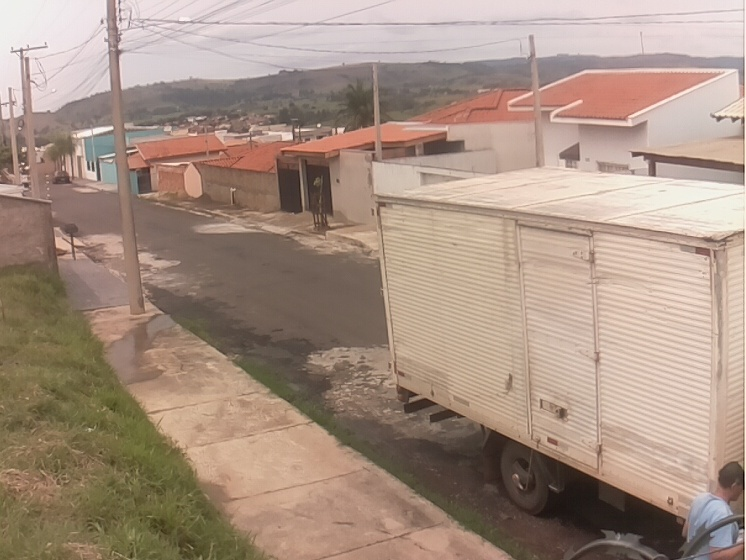person: (679, 460, 746, 560)
